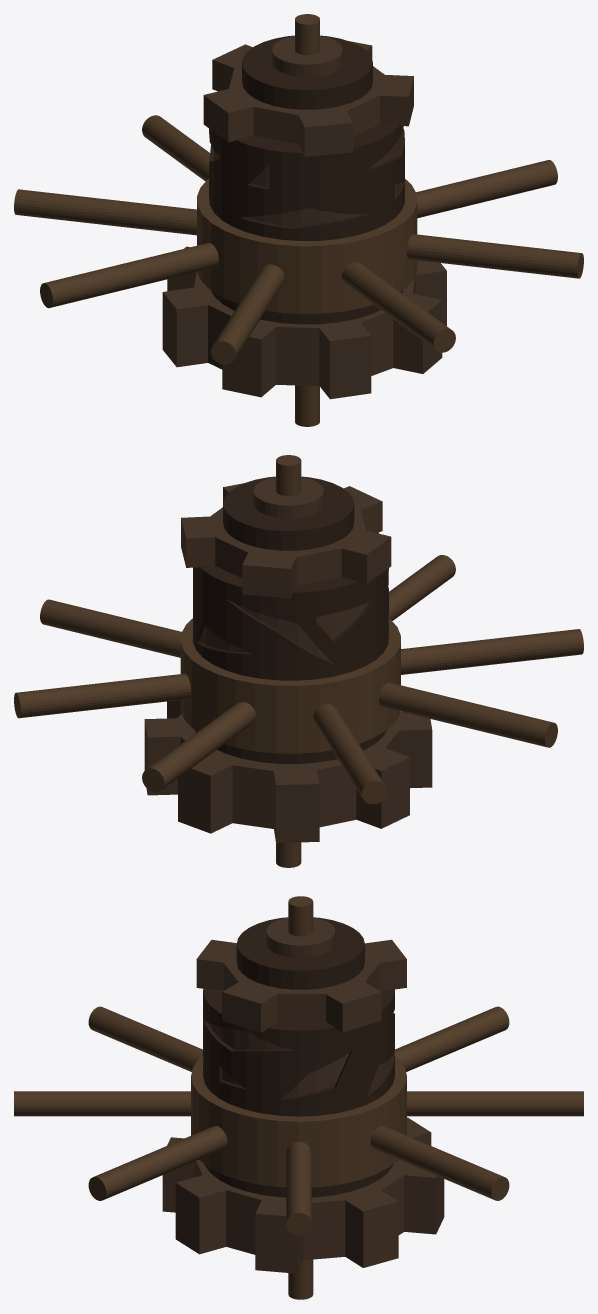
The model's file is Gros rouage.fbx.
3 renders of one model, top to bottom at view 1: azimuth 30°, elevation 25°; view 2: azimuth 150°, elevation 25°; view 3: azimuth 270°, elevation 25°, orthographic. The views are drawn at different scales.
Parts seen in each view (by area): view 1: Cylindre.002, Cylindre.001, Cercle.001, Cercle, Cercle.002, Cercle.003, Cylindre; view 2: Cylindre.002, Cercle.001, Cylindre.001, Cercle, Cercle.002, Cercle.003, Cylindre; view 3: Cylindre.002, Cercle.001, Cylindre.001, Cercle, Cercle.002, Cercle.003, Cylindre.
Boxes of the visible parts, left/top/right/bottom form: Cylindre.002: left=14, top=115, right=583, bottom=364; Cylindre.001: left=209, top=124, right=404, bottom=324; Cercle.001: left=162, top=246, right=446, bottom=399; Cercle: left=203, top=41, right=413, bottom=156; Cercle.002: left=242, top=35, right=372, bottom=109; Cercle.003: left=272, top=36, right=342, bottom=77; Cylindre: left=295, top=14, right=319, bottom=426; Cylindre.002: left=14, top=555, right=583, bottom=804; Cercle.001: left=144, top=700, right=432, bottom=842; Cylindre.001: left=193, top=532, right=388, bottom=763; Cercle: left=181, top=483, right=391, bottom=598; Cercle.002: left=223, top=476, right=354, bottom=550; Cercle.003: left=253, top=477, right=323, bottom=518; Cylindre: left=276, top=455, right=301, bottom=867; Cylindre.002: left=14, top=1006, right=583, bottom=1235; Cercle.001: left=162, top=1117, right=444, bottom=1273; Cylindre.001: left=203, top=988, right=394, bottom=1197; Cercle: left=196, top=939, right=406, bottom=1032; Cercle.002: left=236, top=917, right=364, bottom=989; Cercle.003: left=266, top=917, right=335, bottom=957; Cylindre: left=288, top=896, right=313, bottom=1299.
Bounding box in the file's own units: 651 × 496 × 651.
